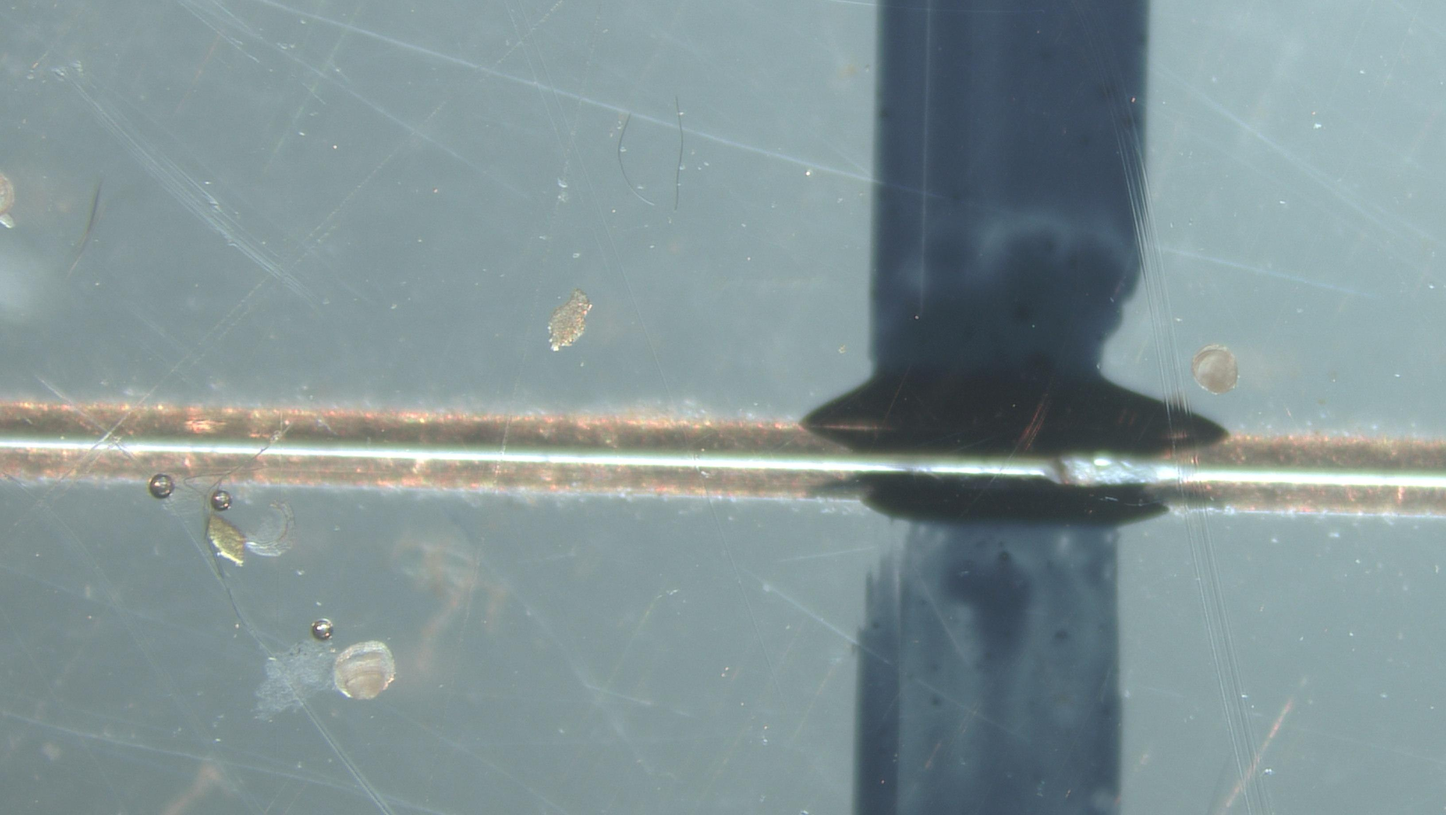dead: (334, 641, 395, 700), (1191, 344, 1239, 395)
